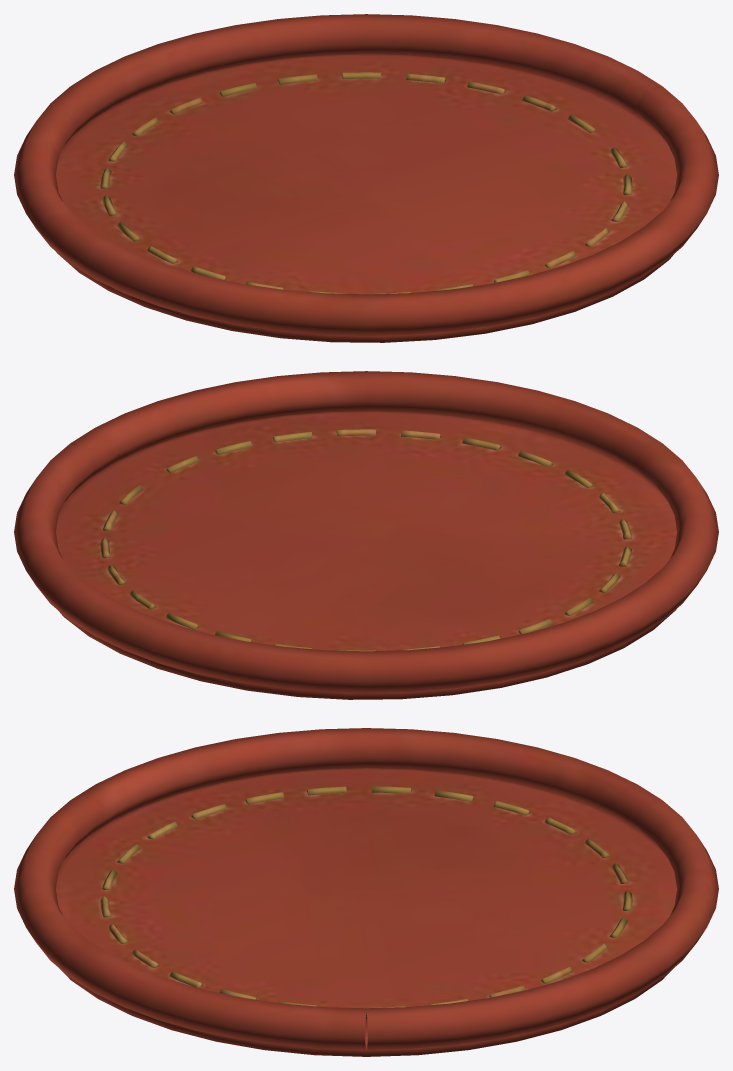
File: tray_round_red.glb
3 views of the same model, one above another, from view 1: azimuth 30°, elevation 25°; view 2: azimuth 150°, elevation 25°; view 3: azimuth 270°, elevation 25° (orthographic).
Parts seen in each view (by area): view 1: prop_tray_round_red_felt; view 2: prop_tray_round_red_felt; view 3: prop_tray_round_red_felt.
Part boxes in pixels (left/top/right/bottom): prop_tray_round_red_felt: left=14, top=14, right=718, bottom=342; prop_tray_round_red_felt: left=14, top=371, right=718, bottom=699; prop_tray_round_red_felt: left=14, top=728, right=718, bottom=1056.
Bounding box in the file's own units: 0.8079 × 0.0608 × 0.808.
Materials: 1 (1 with a texture image).
